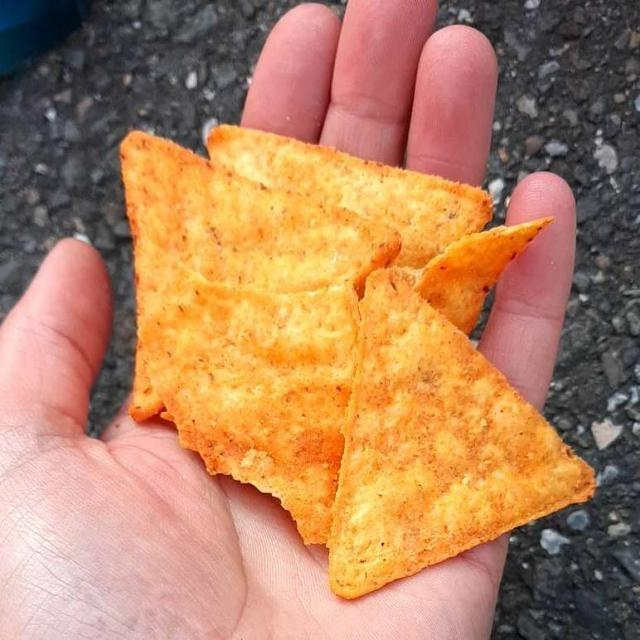corn-crisps: (121, 142, 609, 614)
